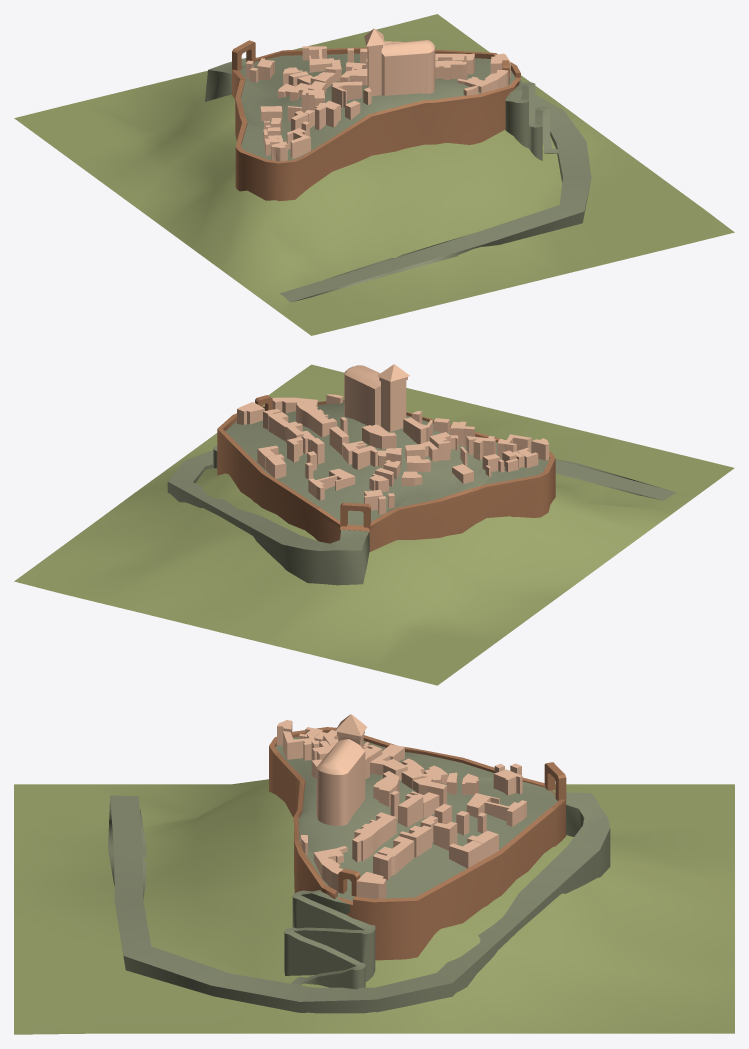
The model's file is ville_v19.fbx.
The picture shows the model from 3 angles, top to bottom: view 1: azimuth 30°, elevation 25°; view 2: azimuth 150°, elevation 25°; view 3: azimuth 270°, elevation 25°; orthographic projection. The views are drawn at different scales.
Visible parts, largest first — view 1: Ville; view 2: Ville; view 3: Ville.
Part boxes in pixels (x1,y1,x2,y2): Ville: [14, 14, 734, 335]; Ville: [14, 364, 734, 685]; Ville: [14, 714, 734, 1034].
Size of the model in its own units: 986 by 350 by 1200.
